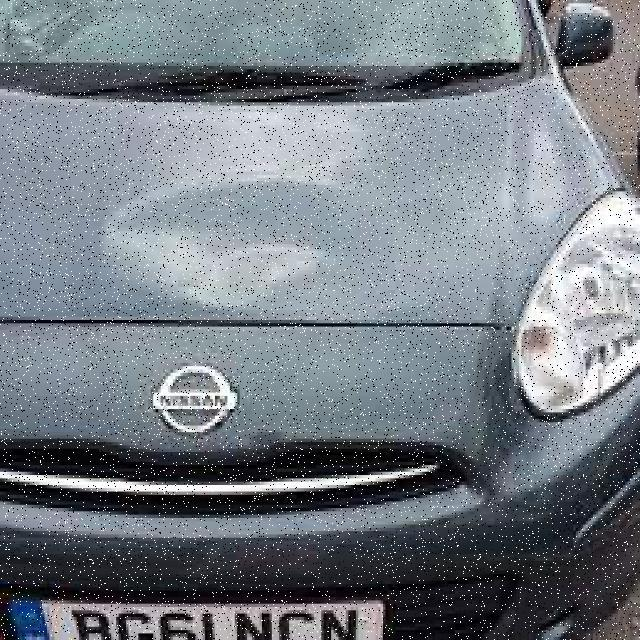bonnet-dent: (0, 92, 514, 494)
